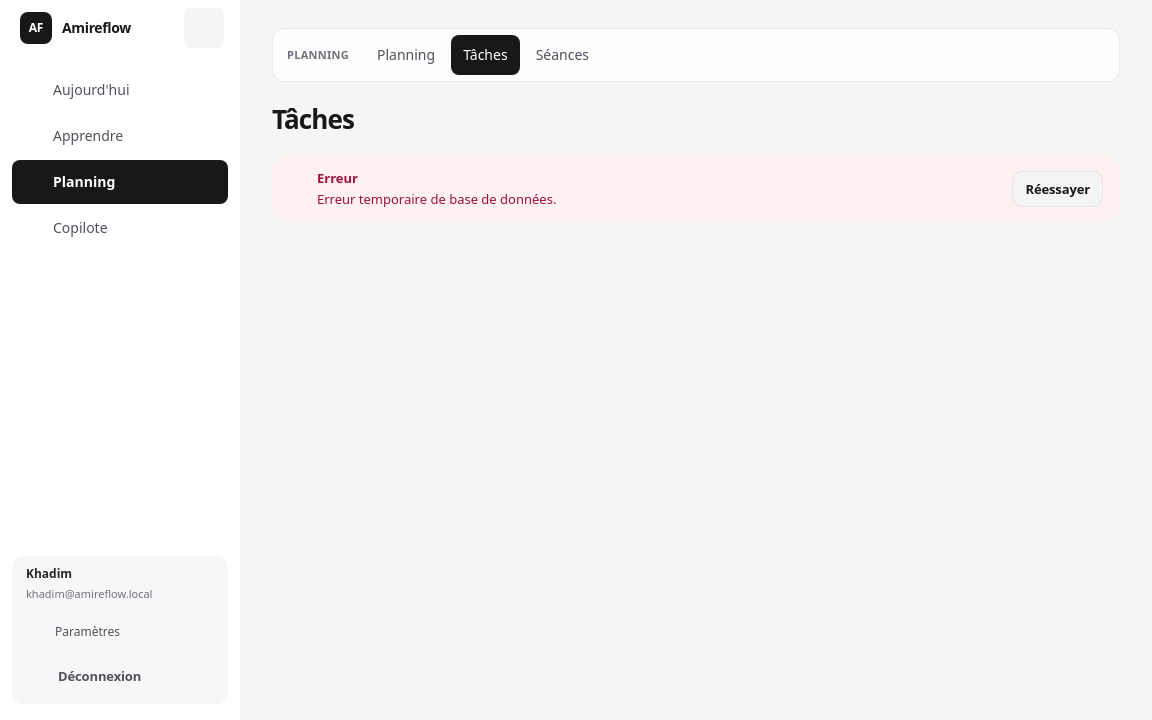
Scenario: Intégration API FastAPI & Authentification (Lot 5) › affiche ErrorState sur erreur 500 puis recharge après clic sur Réessayer
Expected: the message shows "Erreur temporaire de base de données.", [317, 190, 556, 208]
Step 1. Click the button "Réessayer" → (1058, 189), box [1012, 171, 1103, 207]
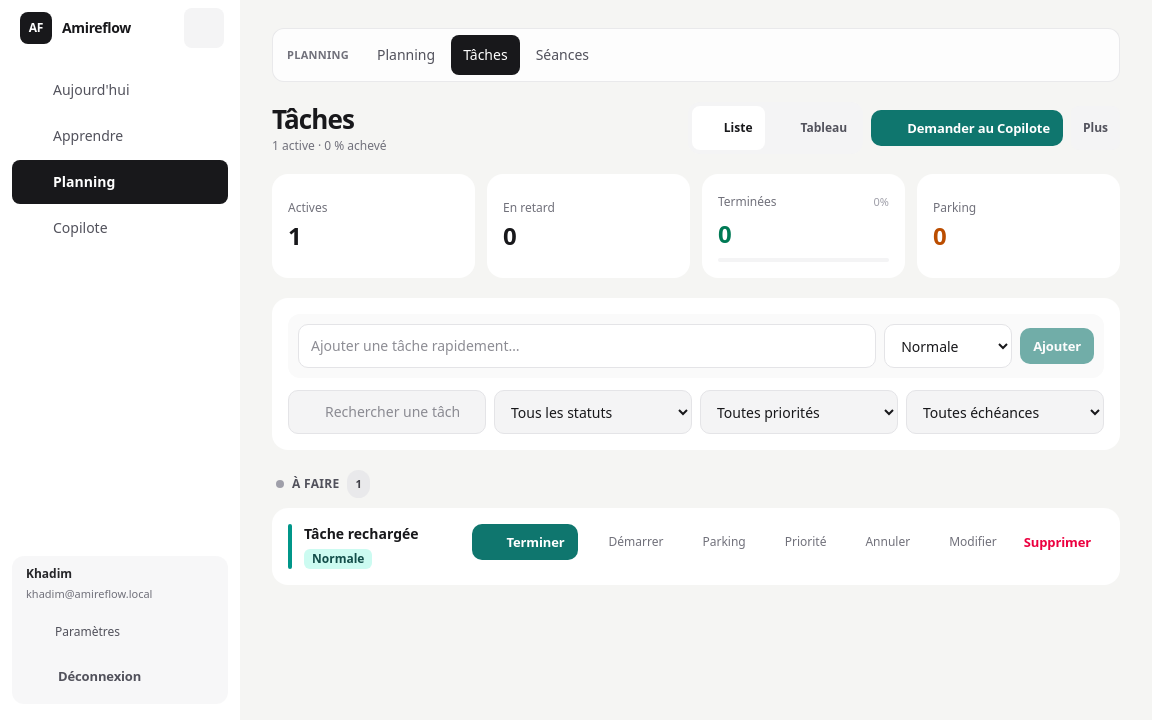
Expected: the element "Tâche rechargée" is shown, [272, 508, 1120, 585]
